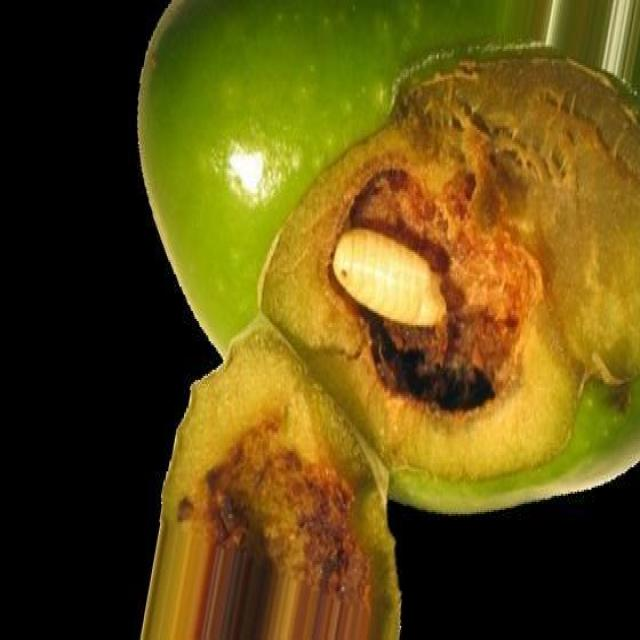Olive Fruit Fly: (140, 0, 639, 513)
